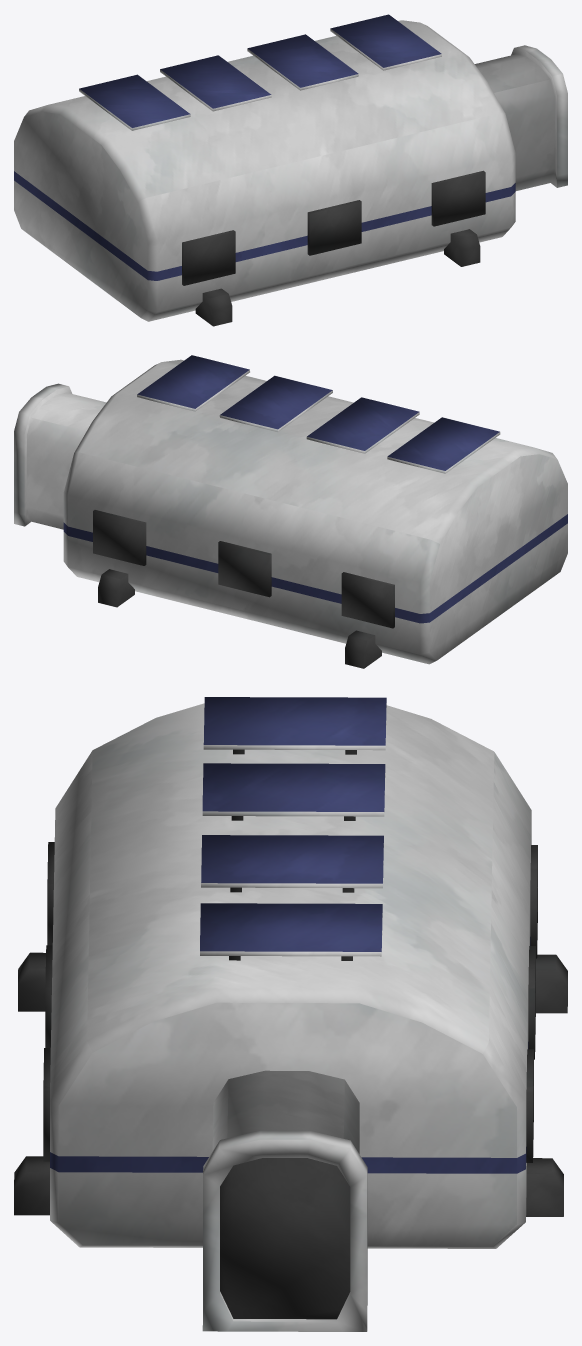
File: Habitat_03.glb
The picture shows the model from 3 angles, top to bottom: view 1: azimuth 30°, elevation 25°; view 2: azimuth 150°, elevation 25°; view 3: azimuth 270°, elevation 25°; orthographic projection. The views are drawn at different scales.
Parts seen in each view (by area): view 1: Habitat03; view 2: Habitat03; view 3: Habitat03.
Boxes of the visible parts, <box> form: Habitat03: <box>14,14,567,326</box>; Habitat03: <box>14,355,567,668</box>; Habitat03: <box>14,697,567,1331</box>.
Bounding box in the file's own units: 405 × 138 × 249.
Materials: 1 (1 with a texture image).
